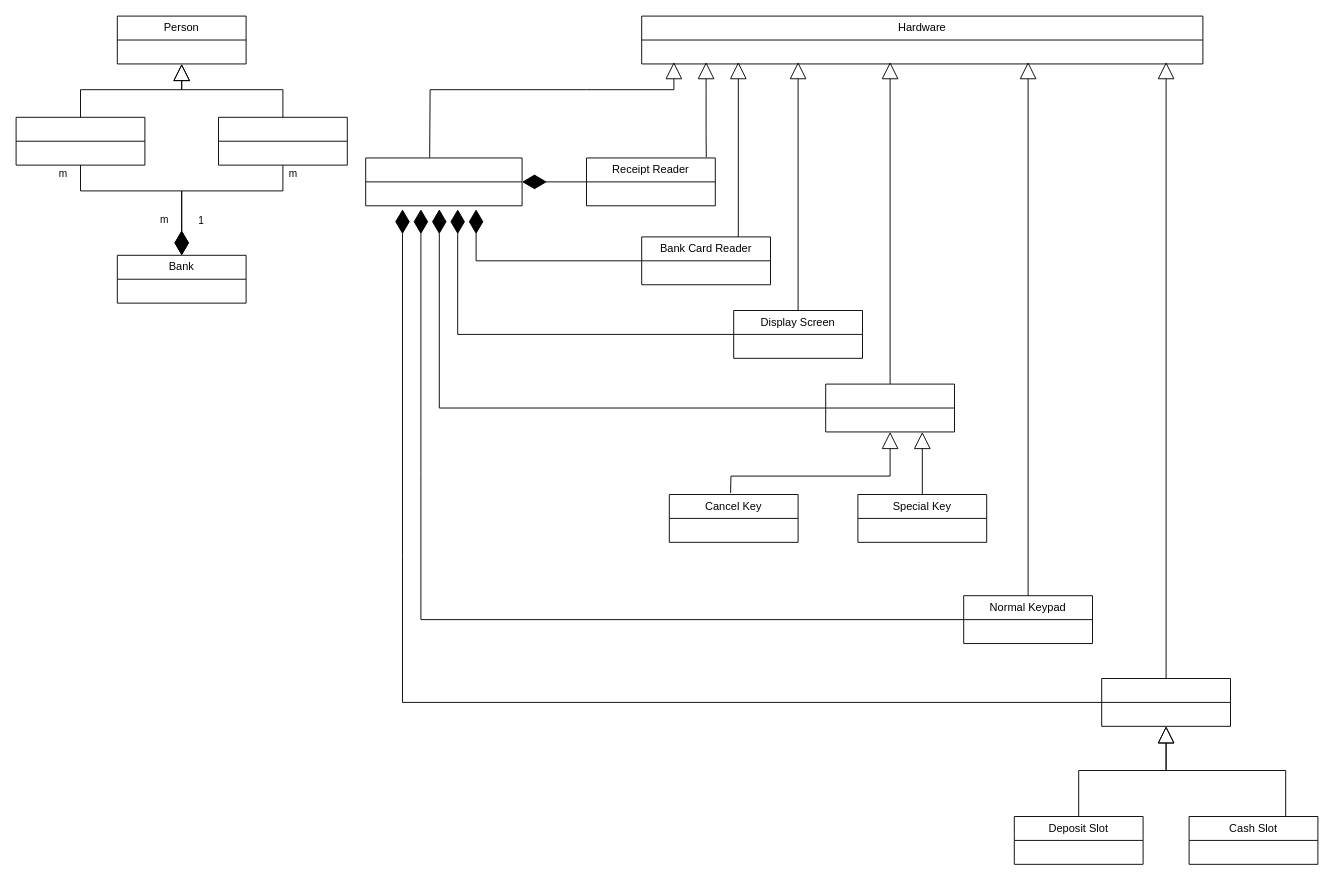
This 1334x880 diagram has some shape labels left out. The centre of each missing label's shape, as x and y in pixels:
"ATM" goes at pixel 443 181.
"Customer" goes at pixel 80 140.
"Employee" goes at pixel 282 140.
"Keys" goes at pixel 889 407.
"Slots" goes at pixel 1165 702.
